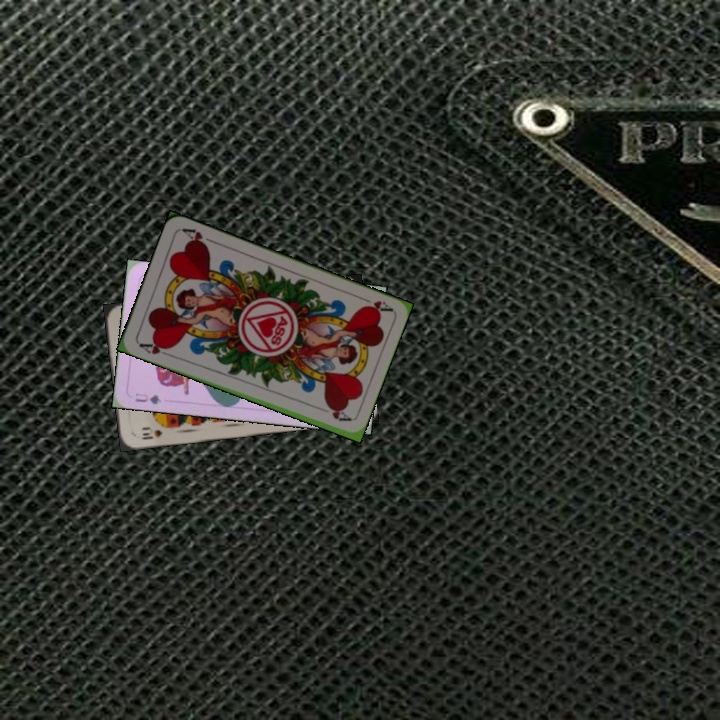GU: (131, 389, 164, 407)
HA: (355, 292, 394, 316), (135, 337, 174, 359)
S10: (137, 426, 165, 442)
